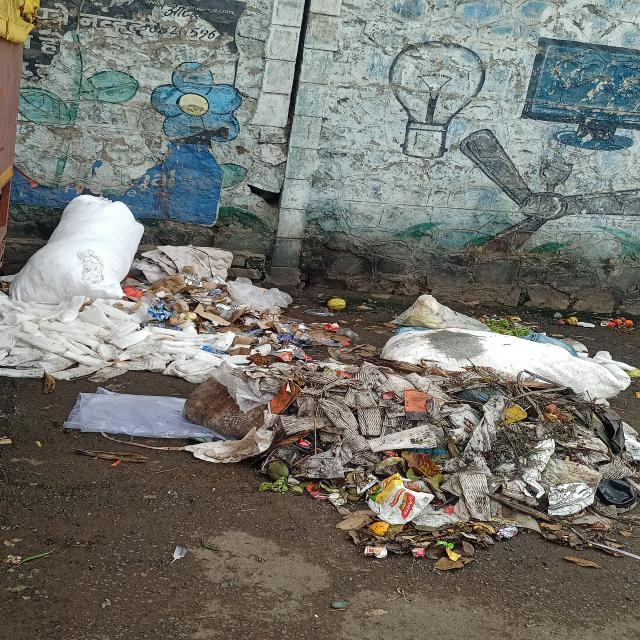garbage: (9, 189, 592, 605)
